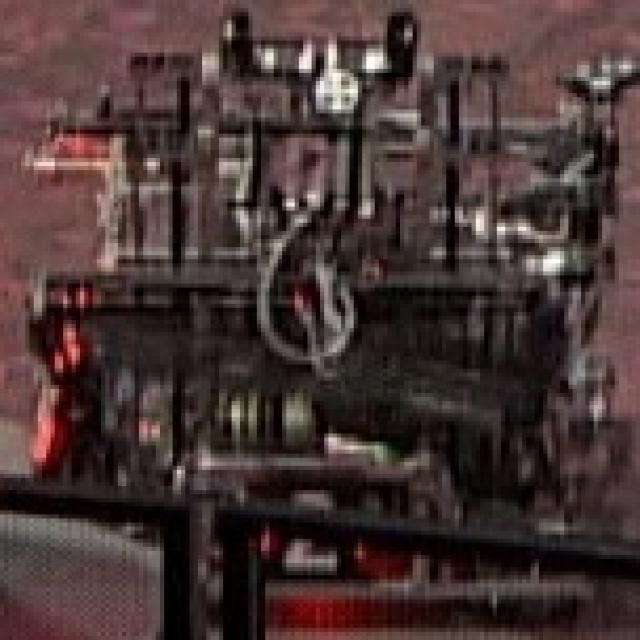R2: (230, 470, 372, 579)
